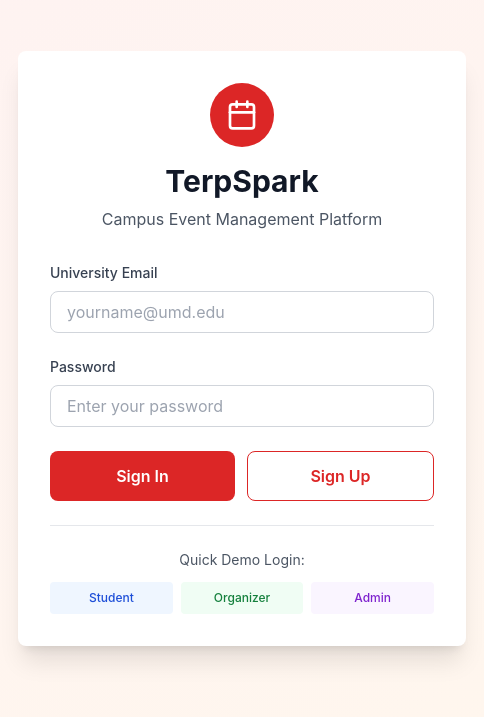
Scenario: LoginPage › shows validation error for missing credentials
The image size is (484, 717).
Click the button "Sign In" at (142, 476), box x1=50 y1=450 x2=235 y2=500
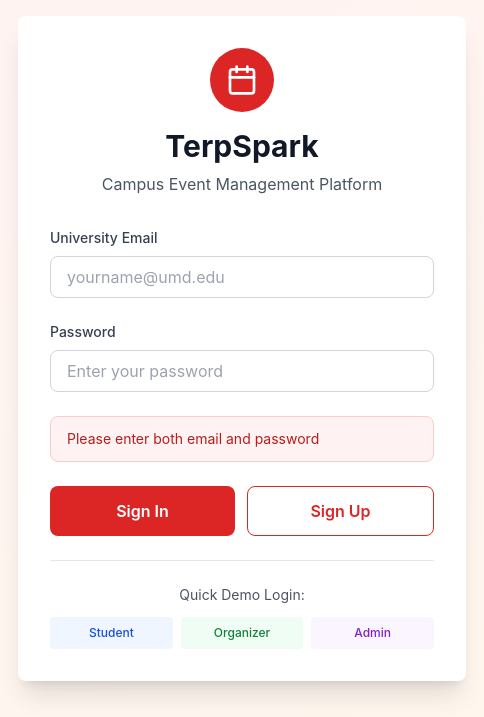
Now the text "Please enter both email and password" is shown, box x1=50 y1=416 x2=434 y2=462
